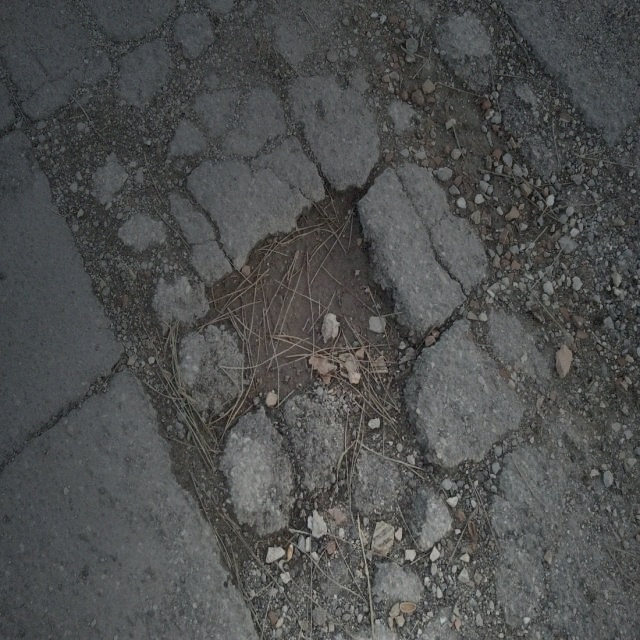pothole: (196, 157, 429, 473)
